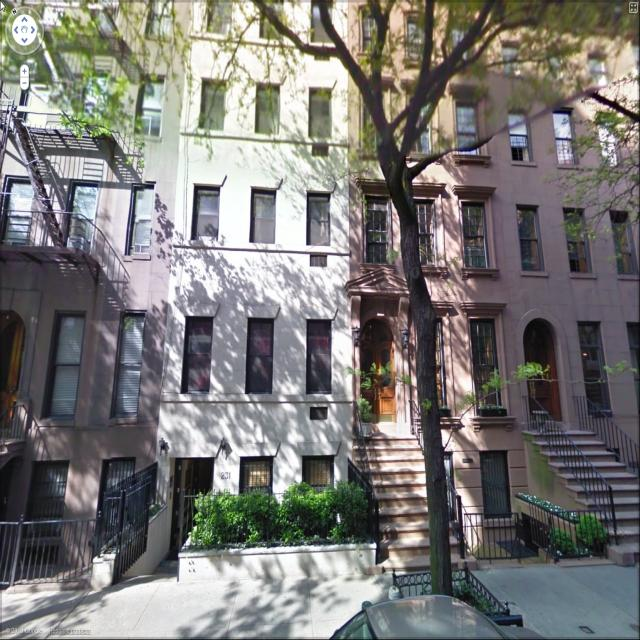b_1: (143, 129, 350, 557), (500, 86, 638, 549)
b_2: (0, 1, 191, 485), (344, 13, 522, 531)
